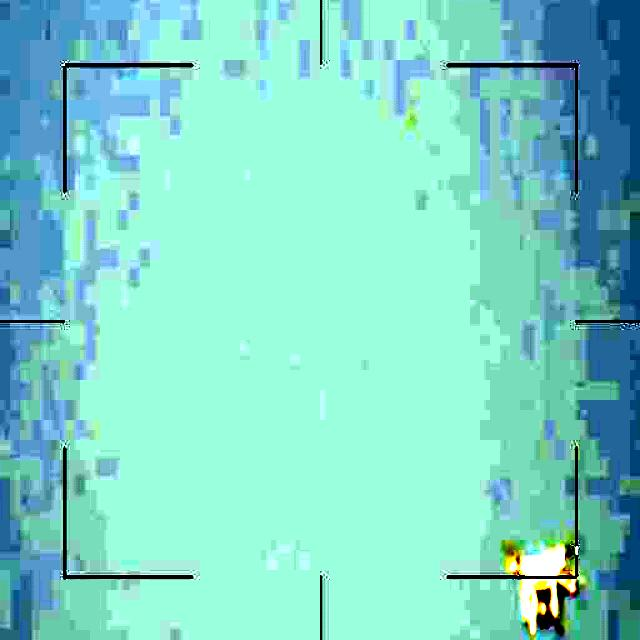bird: (502, 542, 584, 635)
